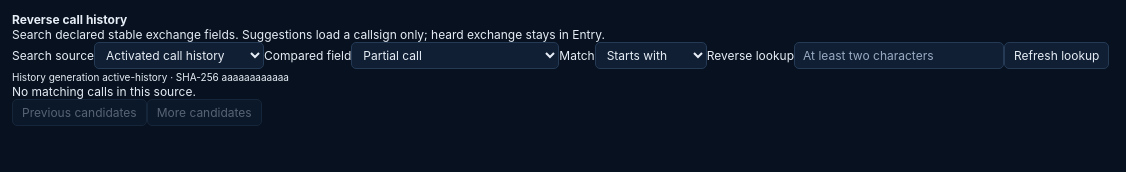
explains serial-only unsupported lookup
The width and height of the screenshot is (1126, 172).
Select "Rolling serial (unsupported)" in the dropdown labelled "Compared field" at (455, 56), box [351,42,559,69]
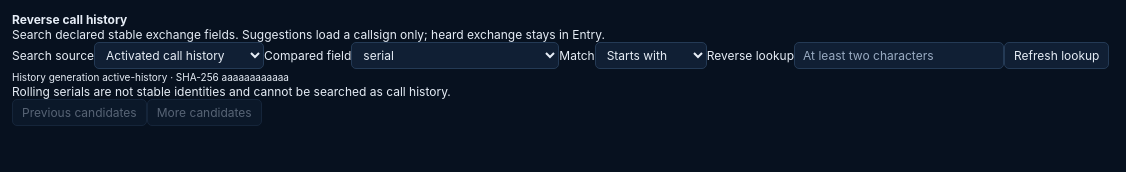
Expected: the text "Rolling serials are not stable identities" is shown, [12,84,451,99]
